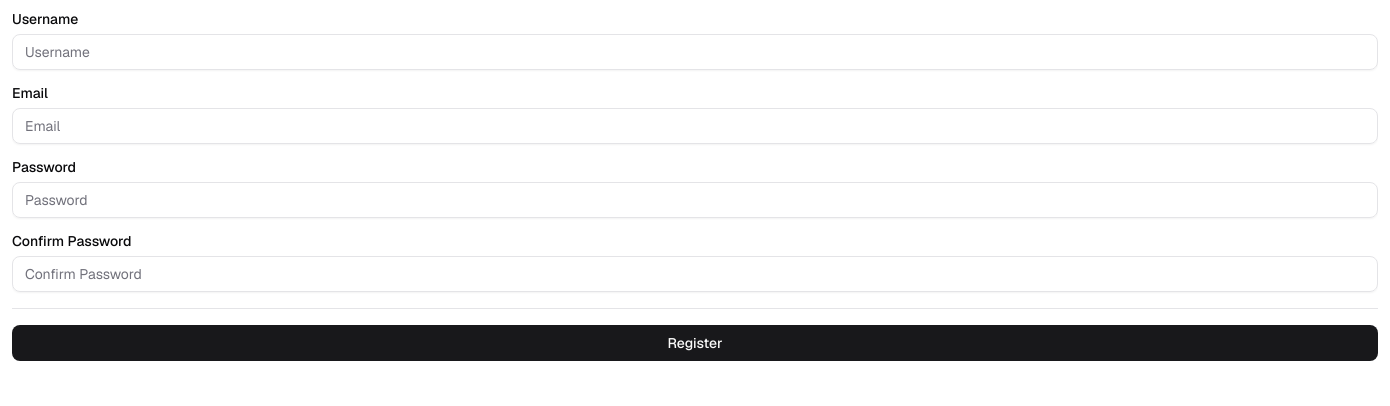
Test case: RegisterForm - Integration Tests › handles username length validation
Type "ab" into the field with placeholder "Username" at (695, 52), box [12, 34, 1378, 70]
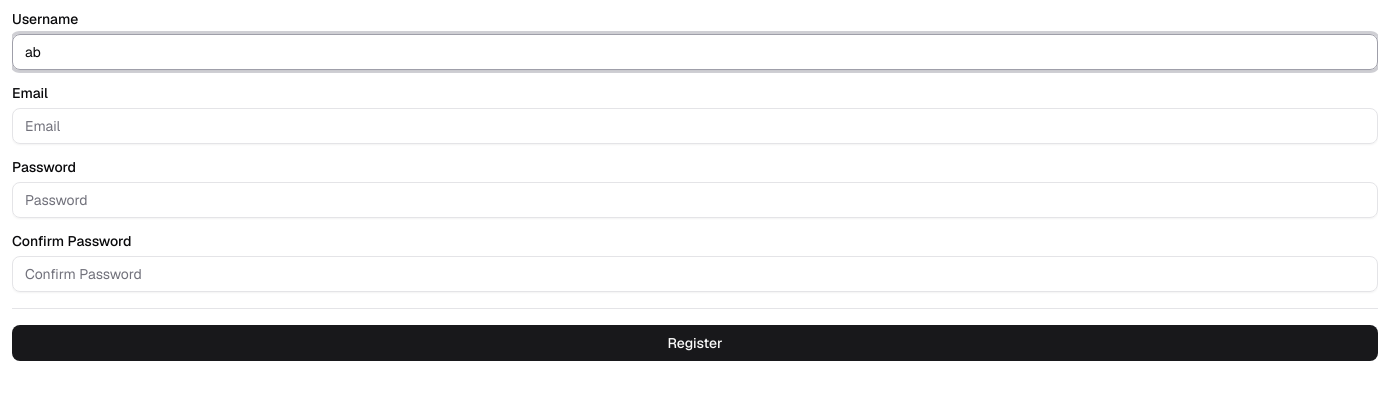
Type "test@example.com" into the field with placeholder "Email" at (695, 126), box [12, 108, 1378, 144]
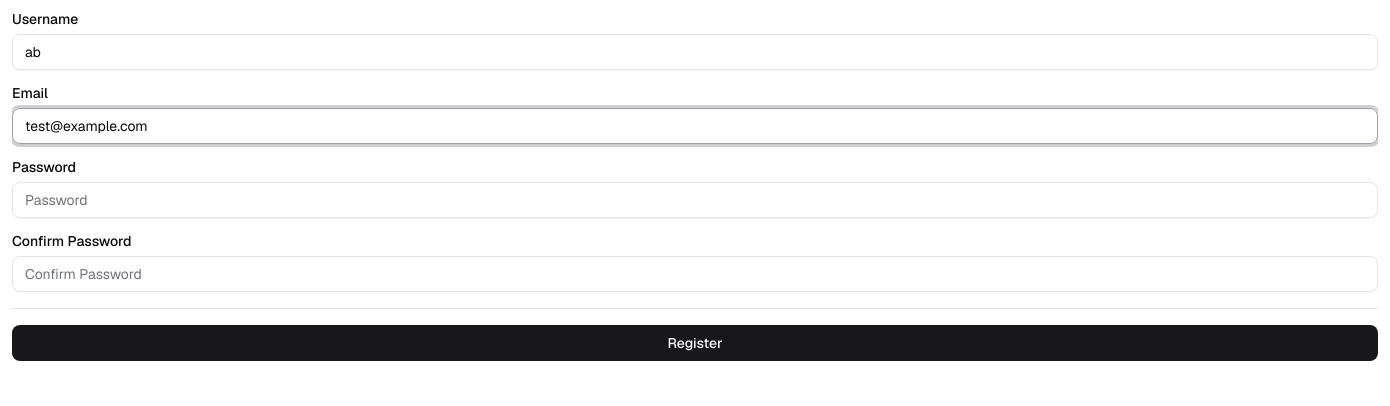
Type "password123" into the password field with placeholder "Password" at (695, 200), box [12, 182, 1378, 218]
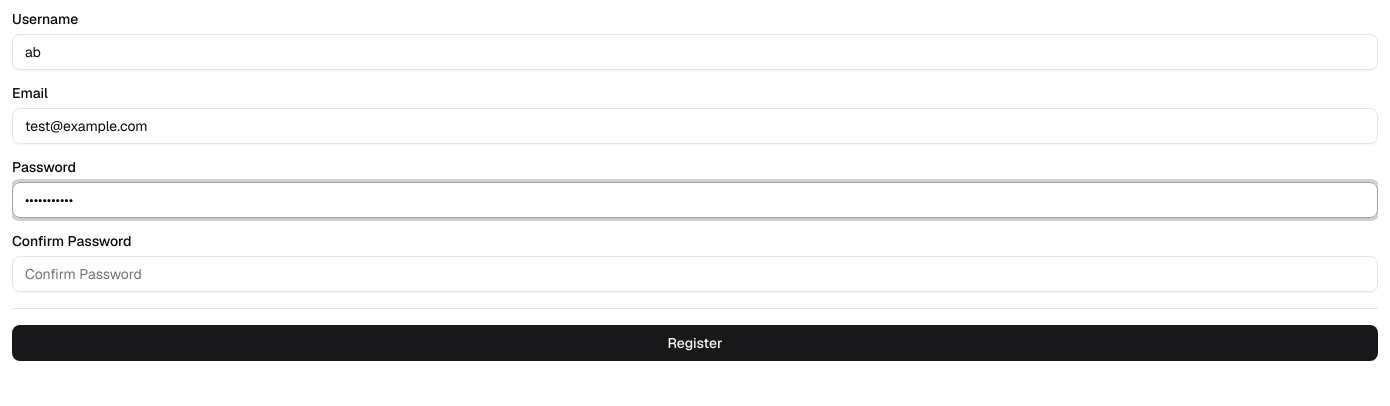
Type "password123" into the password field with placeholder "Confirm Password" at (695, 274), box [12, 256, 1378, 292]
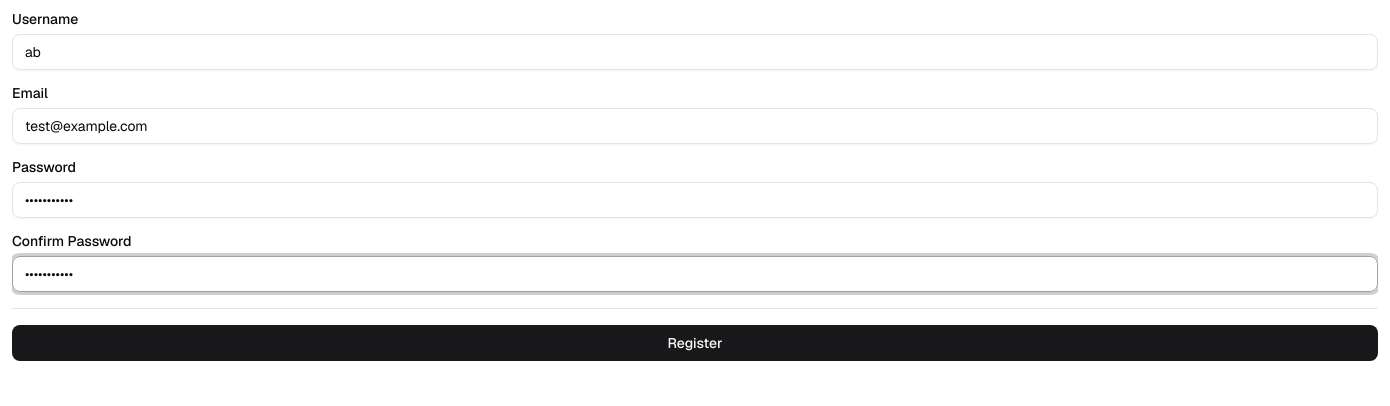
Click the button "Register" at (695, 343), box [12, 325, 1378, 361]
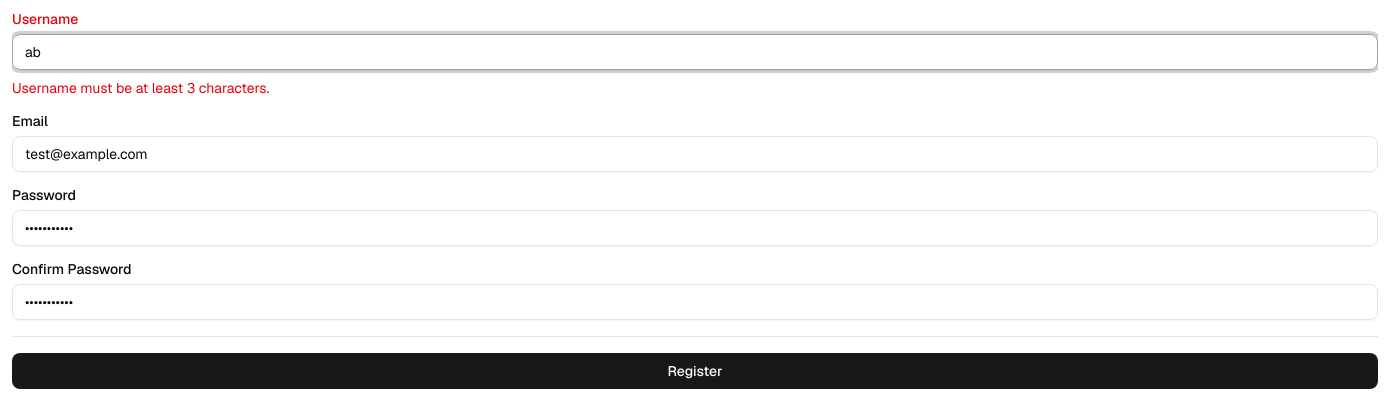
Now the text "Username must be at least 3 characters." is shown, box [12, 79, 269, 97]
